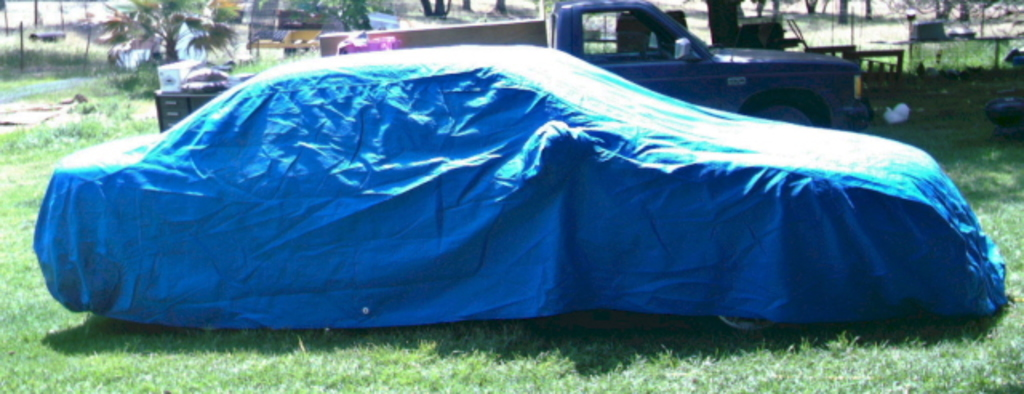Car: (32, 32, 1012, 341)
